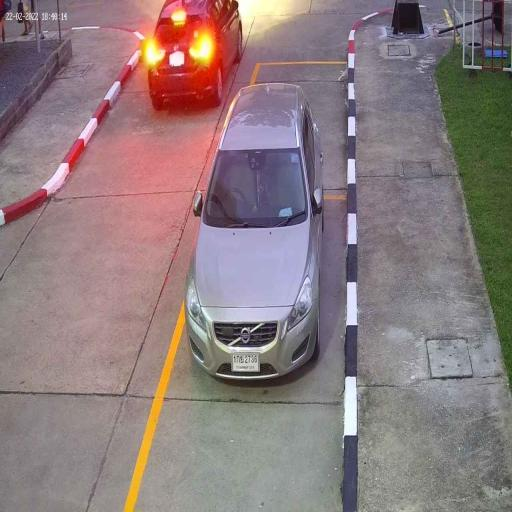car: (184, 86, 326, 380), (147, 0, 244, 109)
